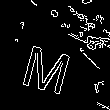M_N: (18, 33, 75, 94)
